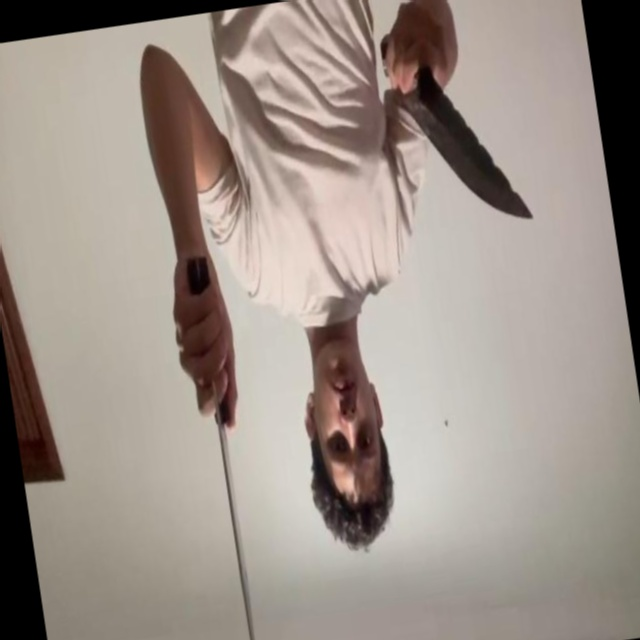Sharp-Object: (405, 79, 532, 234), (211, 395, 263, 640)
